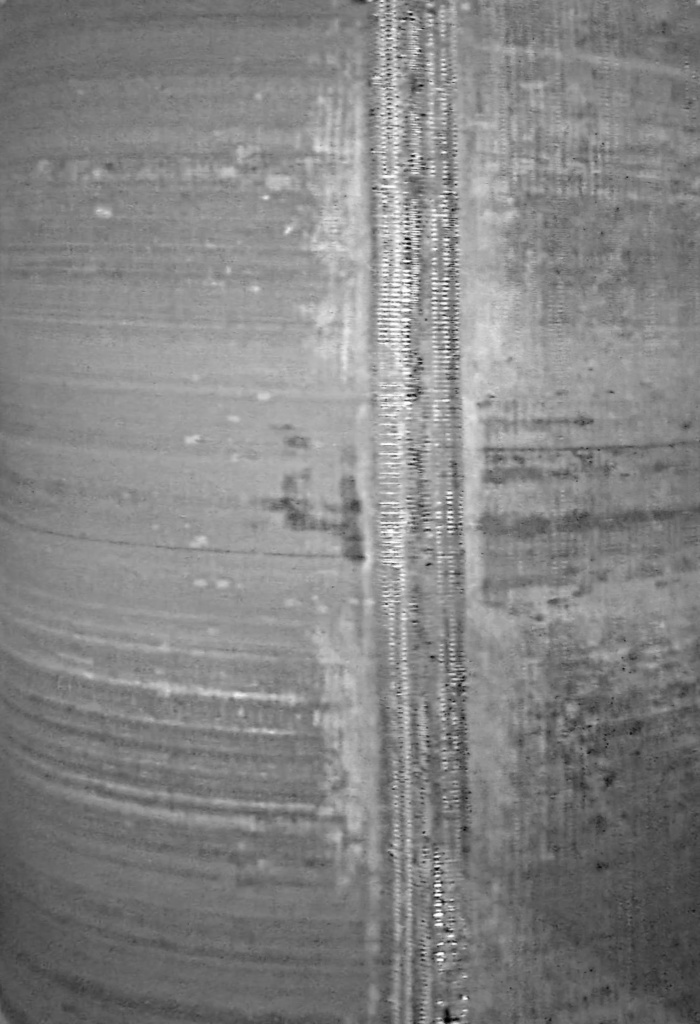splice: (352, 1, 473, 1024)
